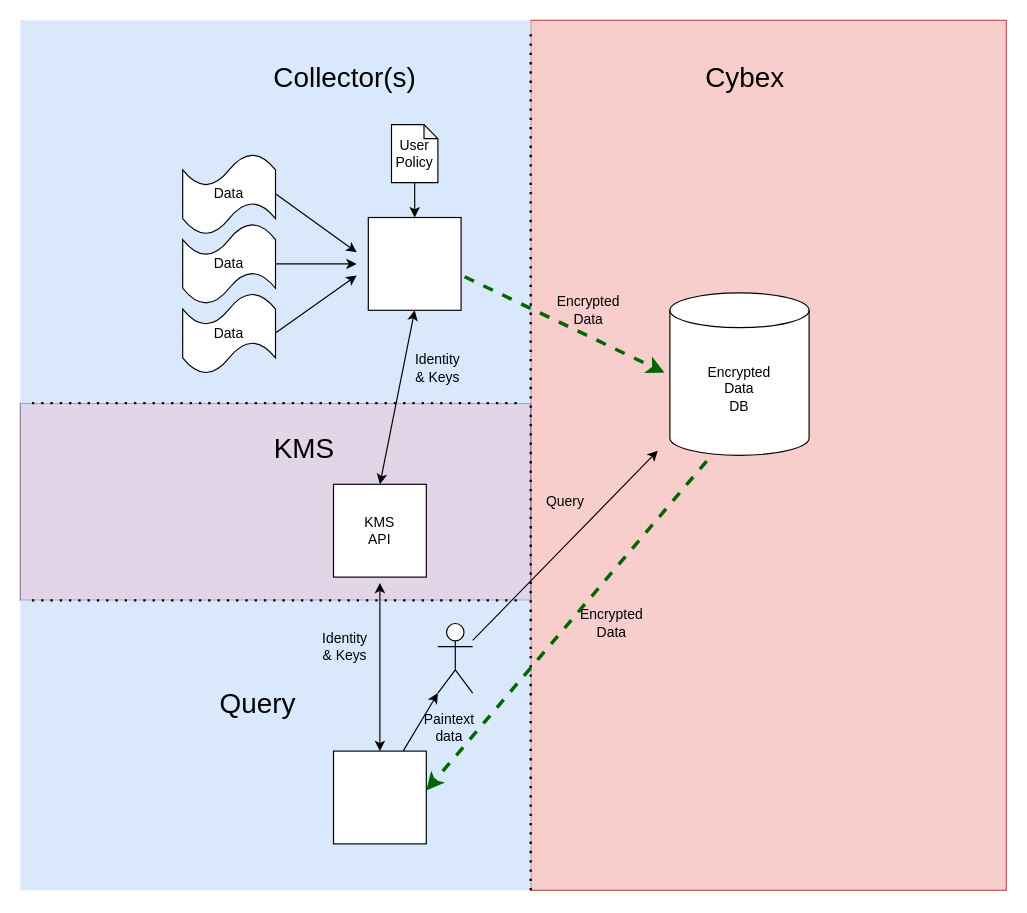
Some shapes in this 1027 by 913 pixel diagram are drawn without their labels. The shapes that lost their labels are listed below. From the top down, each one's centre as x and y in pixels, then its label:
At point (414, 263): "Data Encryption".
At point (379, 797): "Decryption".
